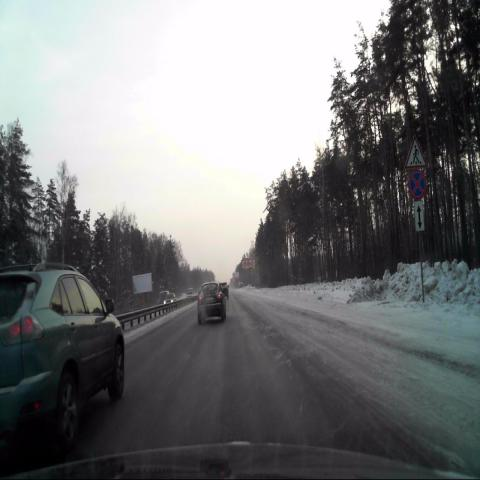8_3_3: (414, 201, 424, 231)
